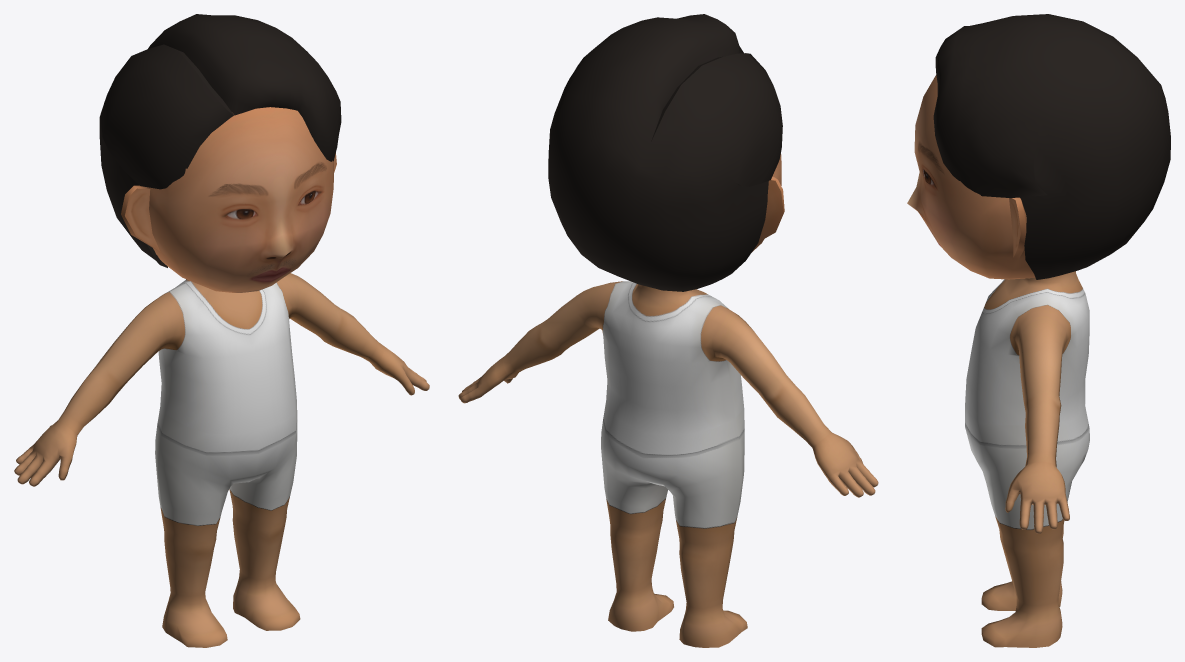
Rendered from M_HaJeongWoo_Base.fbx.
The picture shows the model from 3 angles, left to right: view 1: azimuth 30°, elevation 25°; view 2: azimuth 150°, elevation 25°; view 3: azimuth 270°, elevation 25°; orthographic projection.
Parts seen in each view (by area): view 1: Body_HJW, HAIR_HJW, Head_HJW; view 2: Body_HJW, HAIR_HJW, Head_HJW; view 3: HAIR_HJW, Body_HJW, Head_HJW.
Part boxes in pixels (left/top/right/bottom): Body_HJW: left=14, top=273, right=429, bottom=647; HAIR_HJW: left=99, top=14, right=341, bottom=267; Head_HJW: left=121, top=107, right=336, bottom=292; Body_HJW: left=458, top=281, right=878, bottom=647; HAIR_HJW: left=548, top=14, right=782, bottom=291; Head_HJW: left=751, top=153, right=784, bottom=252; HAIR_HJW: left=933, top=14, right=1170, bottom=279; Body_HJW: left=965, top=271, right=1089, bottom=647; Head_HJW: left=907, top=75, right=1035, bottom=279.
Bounding box in the file's own units: 91.09 × 126 × 50.37.
